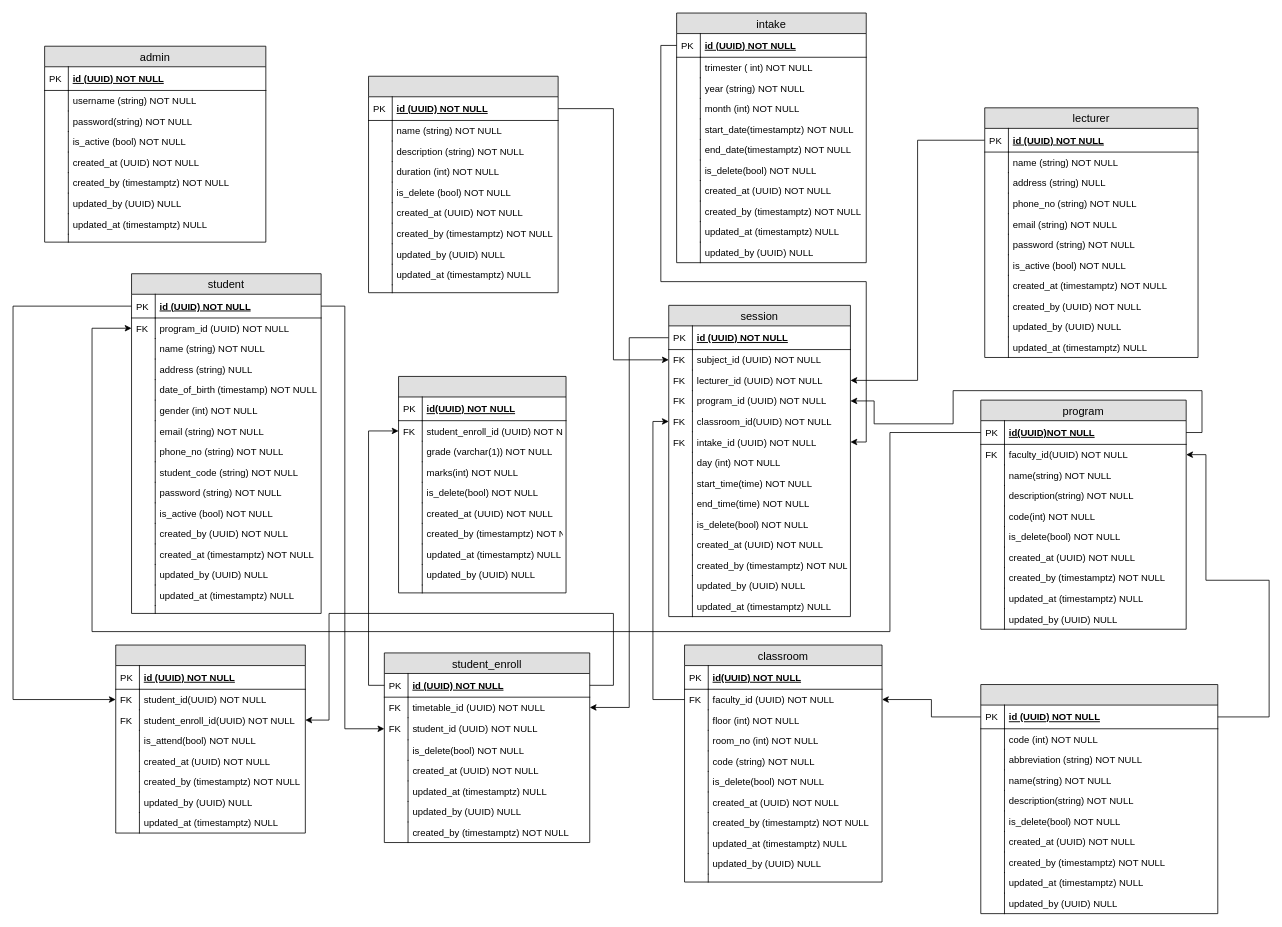
This 1282x927 diagram has some shape labels left out. The shapes that lost their labels are listed below. From the top down, each one's box as (x1, y1, x2, y2) in pixels, then its label:
(368, 75, 558, 293): subject
(398, 376, 566, 593): result
(115, 644, 305, 833): attendance
(980, 684, 1218, 914): faculty
